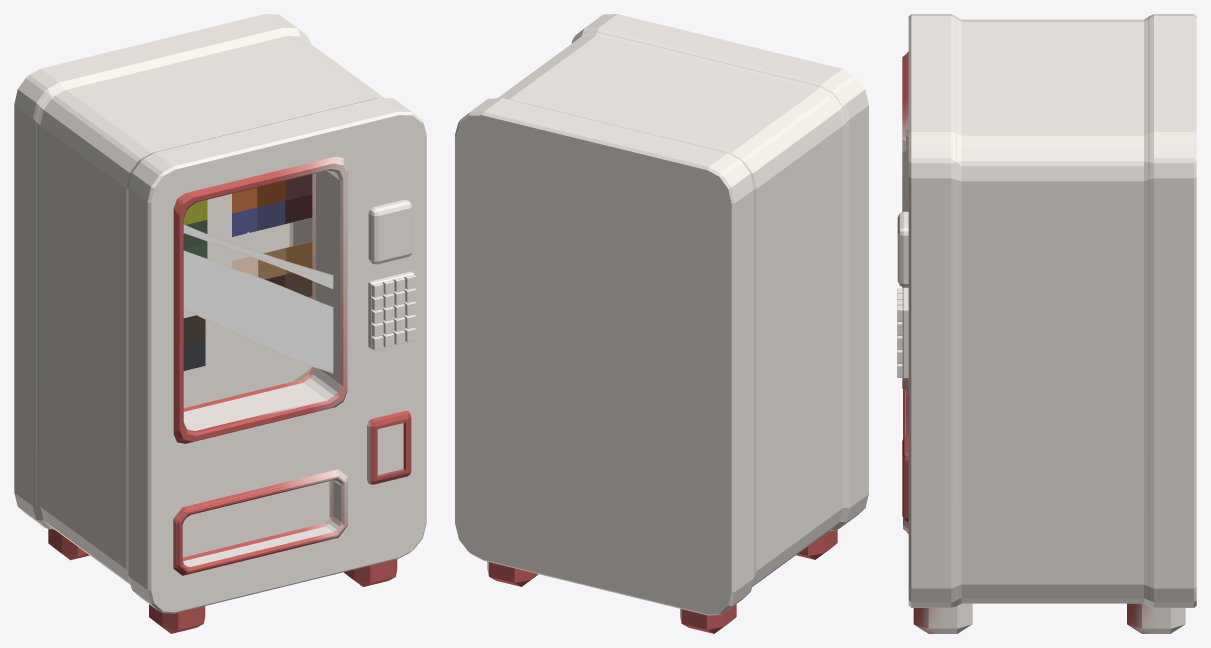
The model's file is 3D_Vending_Machine-Black.fbx.
3 renders of one model, left to right at view 1: azimuth 30°, elevation 25°; view 2: azimuth 150°, elevation 25°; view 3: azimuth 270°, elevation 25°, orthographic. The views are drawn at different scales.
Parts seen in each view (by area): view 1: 3D_Vending_Machine-Black; view 2: 3D_Vending_Machine-Black; view 3: 3D_Vending_Machine-Black.
Part boxes in pixels (<box>): 3D_Vending_Machine-Black: <box>14,14,426,633</box>; 3D_Vending_Machine-Black: <box>455,14,868,633</box>; 3D_Vending_Machine-Black: <box>897,14,1196,633</box>.
Bounding box in the file's own units: 150 × 244 × 132.
